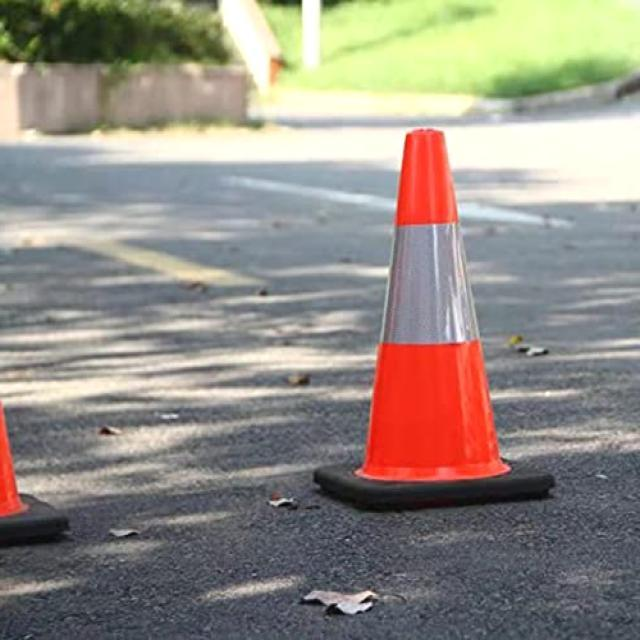traffic cone: (312, 125, 556, 511), (351, 136, 514, 498), (0, 395, 69, 549), (0, 396, 30, 520)
